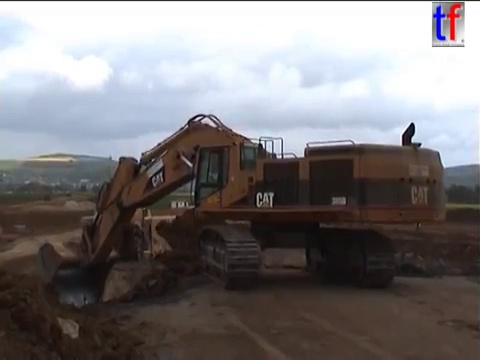excavator: (36, 111, 451, 311)
truck: (132, 210, 285, 288), (89, 196, 158, 259), (41, 190, 53, 203), (64, 189, 73, 199)
worker: (412, 208, 425, 234)
